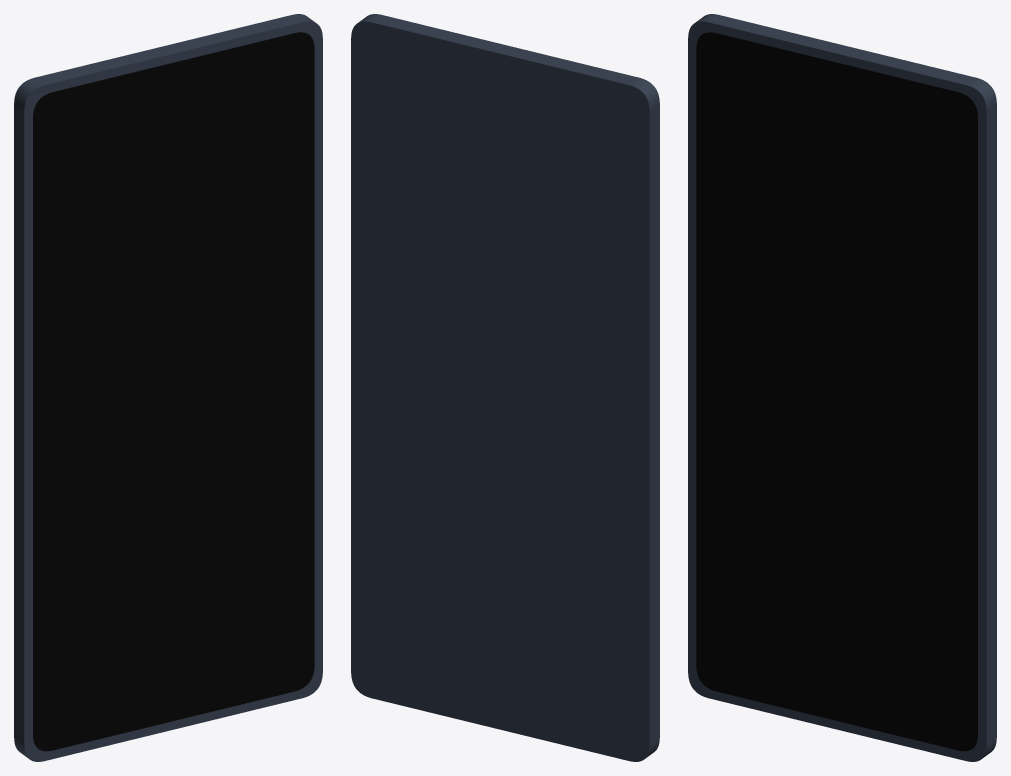
Rendered from apple-iphone-13-pro-max.glb.
3 renders of one model, left to right at view 1: azimuth 30°, elevation 25°; view 2: azimuth 150°, elevation 25°; view 3: azimuth 330°, elevation 25°, orthographic.
Parts seen in each view (by area): view 1: Screen, Body; view 2: Body; view 3: Screen, Body.
Boxes of the visible parts, <box> form: Screen: <box>33,32,314,751</box>; Body: <box>14,14,322,761</box>; Body: <box>351,14,659,761</box>; Screen: <box>696,32,977,751</box>; Body: <box>688,14,996,761</box>.
Size of the model in its own units: 0.107 by 0.2315 by 0.00643.
